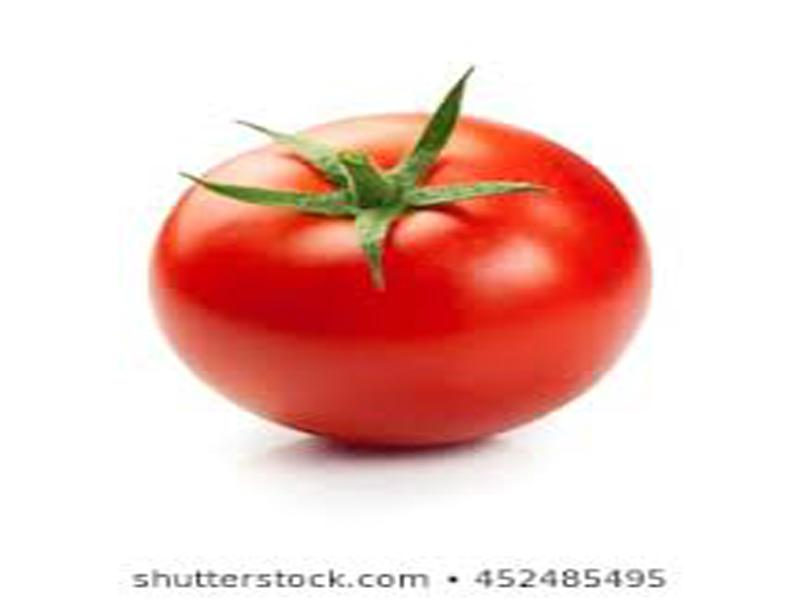Tomato: (156, 113, 644, 448)
